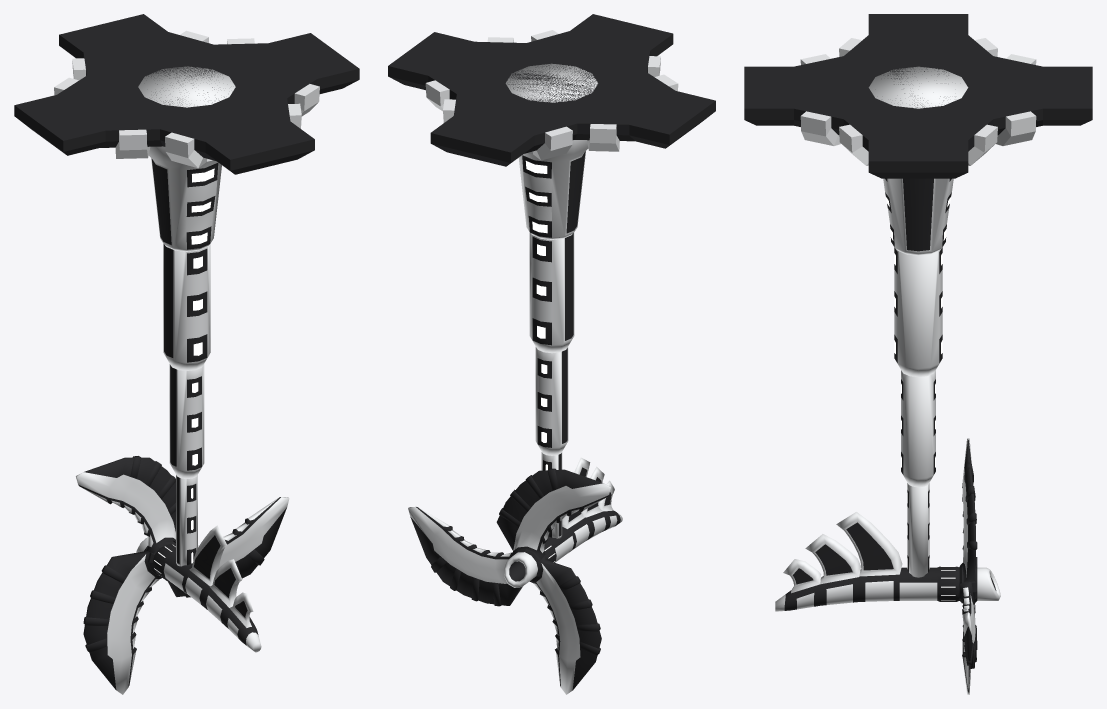
The model's file is wind_turbine.glb.
3 renders of one model, left to right at view 1: azimuth 30°, elevation 25°; view 2: azimuth 150°, elevation 25°; view 3: azimuth 270°, elevation 25°, orthographic. The views are drawn at different scales.
Parts seen in each view (by area): view 1: WindPowerPlant_Foundation_Placeable_0, WindPowerPlant_Body_Placeable_0, WindPowerPlant_Wing.002_Placeable_0, WindPowerPlant_NeckLower_Placeable_0, WindPowerPlant_Wing.001_Placeable_0, WindPowerPlant_NeckUpper_Placeable_0, WindPowerPlant_NeckMedium_Placeable_0, WindPowerPlant_Wing_Placeable_0, WindPowerPlant_Part_Placeable_0; view 2: WindPowerPlant_Foundation_Placeable_0, WindPowerPlant_Body_Placeable_0, WindPowerPlant_Wing.001_Placeable_0, WindPowerPlant_Wing_Placeable_0, WindPowerPlant_NeckLower_Placeable_0, WindPowerPlant_Wing.002_Placeable_0, WindPowerPlant_NeckMedium_Placeable_0, WindPowerPlant_NeckUpper_Placeable_0, WindPowerPlant_Part_Placeable_0; view 3: WindPowerPlant_Foundation_Placeable_0, WindPowerPlant_Body_Placeable_0, WindPowerPlant_NeckUpper_Placeable_0, WindPowerPlant_NeckLower_Placeable_0, WindPowerPlant_Part_Placeable_0, WindPowerPlant_NeckMedium_Placeable_0, WindPowerPlant_Wing.001_Placeable_0, WindPowerPlant_Wing_Placeable_0.
Boxes of the visible parts, x1=… form: WindPowerPlant_Foundation_Placeable_0: x1=14, y1=14, x2=359, y2=174; WindPowerPlant_Body_Placeable_0: x1=138, y1=66, x2=235, y2=251; WindPowerPlant_Wing.002_Placeable_0: x1=83, y1=550, x2=161, y2=694; WindPowerPlant_NeckLower_Placeable_0: x1=163, y1=244, x2=210, y2=370; WindPowerPlant_Wing.001_Placeable_0: x1=76, y1=456, x2=175, y2=553; WindPowerPlant_NeckUpper_Placeable_0: x1=136, y1=475, x2=261, y2=652; WindPowerPlant_NeckMedium_Placeable_0: x1=169, y1=364, x2=204, y2=478; WindPowerPlant_Wing_Placeable_0: x1=168, y1=497, x2=289, y2=597; WindPowerPlant_Part_Placeable_0: x1=189, y1=525, x2=253, y2=627; WindPowerPlant_Foundation_Placeable_0: x1=388, y1=14, x2=715, y2=166; WindPowerPlant_Body_Placeable_0: x1=505, y1=63, x2=597, y2=239; WindPowerPlant_Wing.001_Placeable_0: x1=496, y1=468, x2=610, y2=559; WindPowerPlant_Wing_Placeable_0: x1=408, y1=506, x2=522, y2=606; WindPowerPlant_NeckLower_Placeable_0: x1=529, y1=232, x2=574, y2=353; WindPowerPlant_Wing.002_Placeable_0: x1=530, y1=557, x2=601, y2=694; WindPowerPlant_NeckMedium_Placeable_0: x1=535, y1=347, x2=568, y2=455; WindPowerPlant_NeckUpper_Placeable_0: x1=504, y1=452, x2=622, y2=587; WindPowerPlant_Part_Placeable_0: x1=562, y1=457, x2=614, y2=528; WindPowerPlant_Foundation_Placeable_0: x1=744, y1=14, x2=1092, y2=178; WindPowerPlant_Body_Placeable_0: x1=868, y1=66, x2=968, y2=255; WindPowerPlant_NeckUpper_Placeable_0: x1=775, y1=483, x2=1000, y2=611; WindPowerPlant_NeckLower_Placeable_0: x1=894, y1=247, x2=942, y2=377; WindPowerPlant_Part_Placeable_0: x1=783, y1=512, x2=902, y2=593; WindPowerPlant_NeckMedium_Placeable_0: x1=901, y1=370, x2=935, y2=487; WindPowerPlant_Wing.001_Placeable_0: x1=959, y1=438, x2=977, y2=582; WindPowerPlant_Wing_Placeable_0: x1=959, y1=582, x2=977, y2=668.
Size of the model in its own units: 14 by 27.8 by 14.
Materials: 1 (1 with a texture image).
